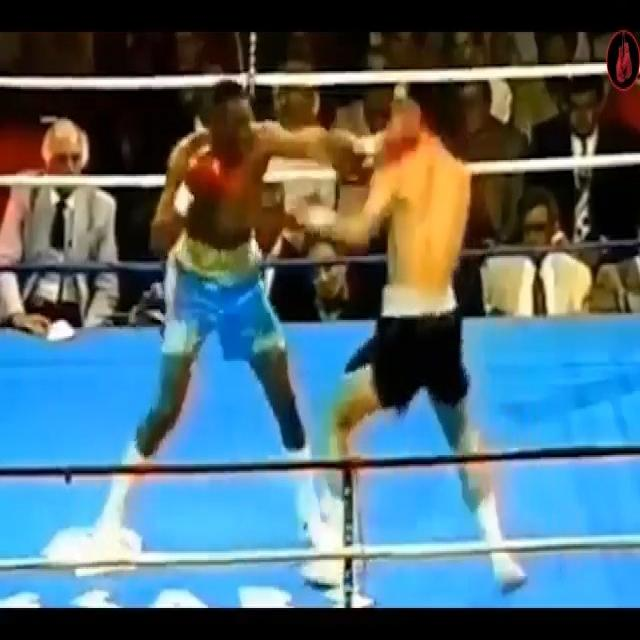Jab: (204, 108, 426, 272)
